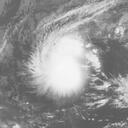cyclone: (25, 33, 100, 100)
